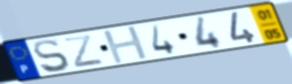4: (229, 10, 258, 45), (150, 22, 179, 56), (195, 15, 221, 50)
H: (101, 24, 152, 66)
S: (32, 38, 72, 74)
Z: (61, 33, 107, 69)
